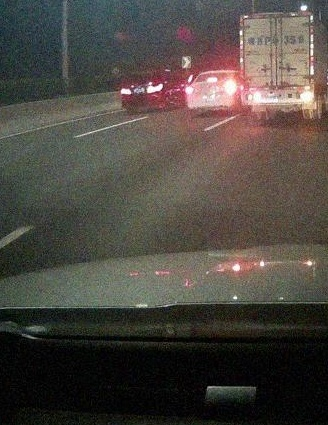L_light: (246, 93, 260, 101), (185, 86, 197, 93), (120, 88, 131, 95)
R_light: (146, 84, 163, 93), (298, 91, 315, 100), (222, 84, 238, 93)
T_light: (269, 16, 282, 22), (207, 77, 217, 82), (141, 74, 151, 76)
night-no: (239, 12, 315, 120), (120, 72, 165, 111)
night-right: (185, 71, 238, 113)
